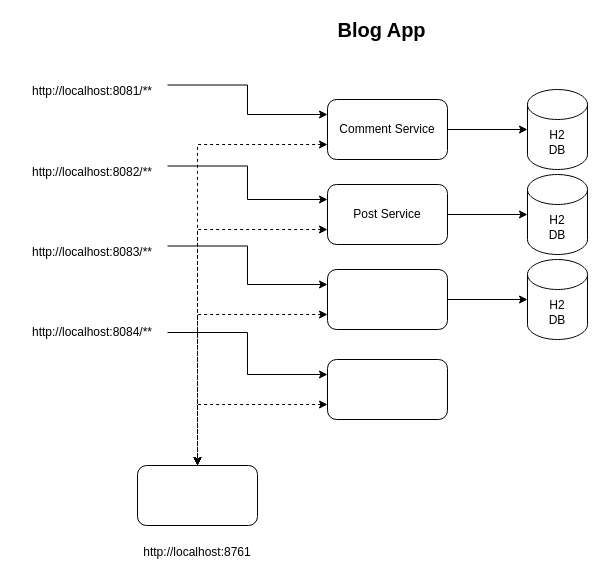
The diagram is 605 pixels wide and 582 high, and some of its shapes have lost their labels. The shapes that lost their labels are listed below. From the top down, each one's centre as x and y in pixels, then its label:
At [387,299]: "User Service".
At [387,389]: "Feed Service".
At [197,495]: "Service Registry".
